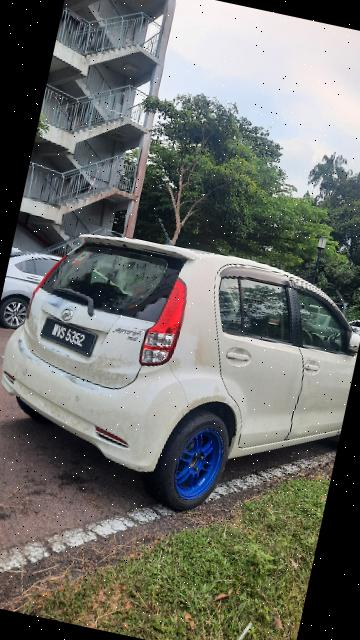License_Plate: (34, 313, 103, 364)
car: (1, 218, 360, 534)
